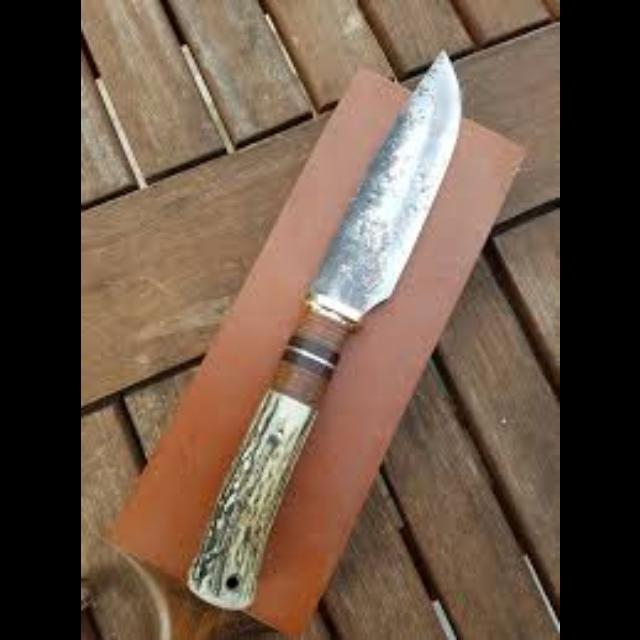knife: (184, 48, 460, 610)
